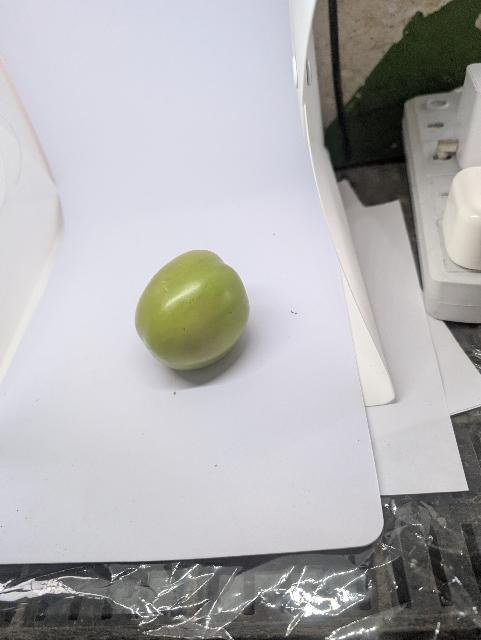green: (126, 235, 260, 379)
